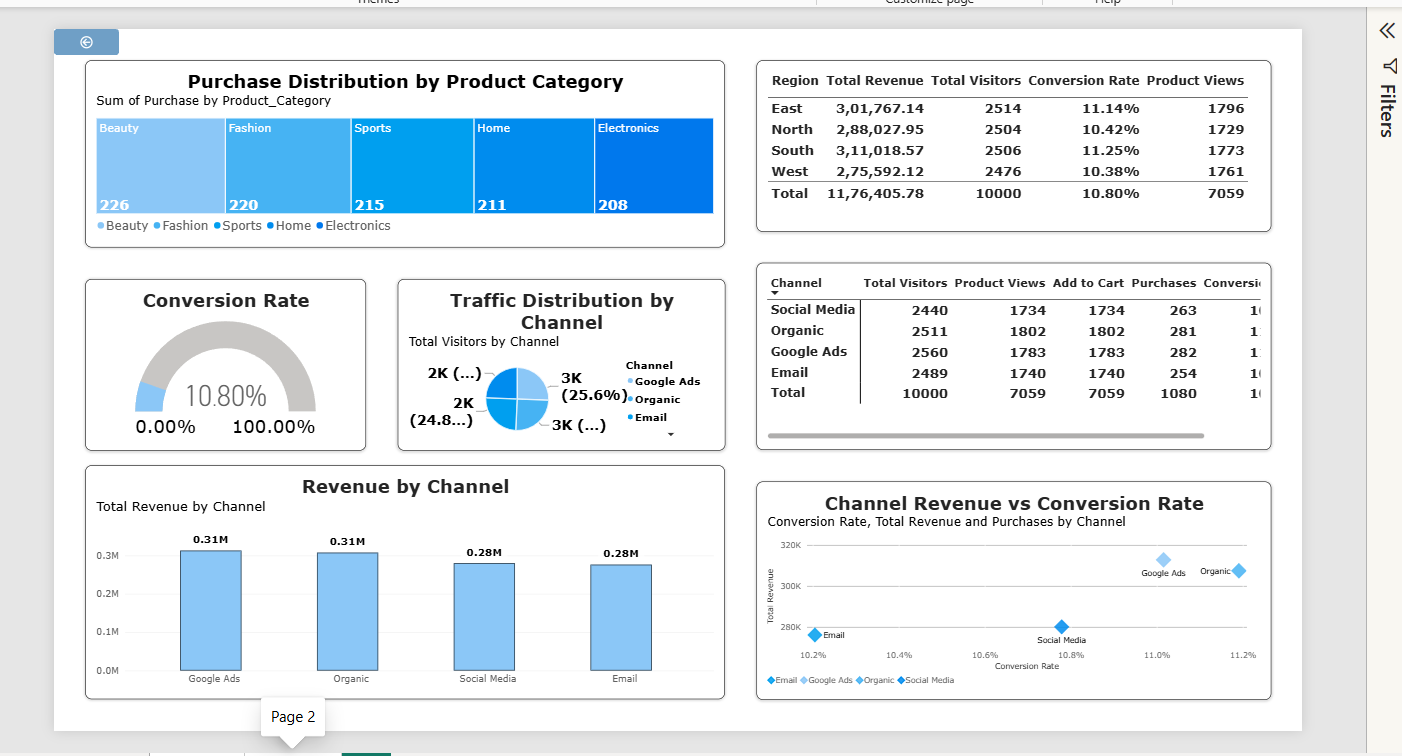

This screenshot's page, from the dashboard's own definition file:
{"tool":"powerbi","page":{"name":"Page 2","canvas":[1920,1080],"ordinal":1},"visuals":[{"type":"pivotTable","fields":{"Rows":["ecommerce_funnel_dashboard_ready.Channel"],"Values":["ecommerce_funnel_dashboard_ready.Total Visitors","ecommerce_funnel_dashboard_ready.Product Views","ecommerce_funnel_dashboard_ready.Add to Cart","ecommerce_funnel_dashboard_ready.Purchases","ecommerce_funnel_dashboard_ready.Overall Conversion Rate"]},"box":[1080,360,792,288],"z":0},{"type":"tableEx","fields":{"Values":["ecommerce_funnel_dashboard_ready.Region","ecommerce_funnel_dashboard_ready.Total Revenue","ecommerce_funnel_dashboard_ready.Total Visitors","ecommerce_funnel_dashboard_ready.Overall Conversion Rate","ecommerce_funnel_dashboard_ready.Product Views"]},"box":[1080,48,792,264],"z":1000},{"type":"actionButton","box":[0,0,100,40],"z":2000},{"type":"treemap","title":"Purchase Distribution by Product Category","fields":{"Values":["Sum(ecommerce_funnel_dashboard_ready.Purchase)"],"Group":["ecommerce_funnel_dashboard_ready.Product_Category"]},"box":[48,48,984,288],"z":3000},{"type":"lineStackedColumnComboChart","title":"Revenue by Channel","fields":{"Category":["ecommerce_funnel_dashboard_ready.Channel"],"Y":["ecommerce_funnel_dashboard_ready.Total Revenue"]},"box":[48,672,984,360],"z":4000},{"type":"gauge","fields":{"Y":["ecommerce_funnel_dashboard_ready.Overall Conversion Rate"]},"box":[48,384,432,264],"z":4001},{"type":"scatterChart","title":"Channel Revenue vs Conversion Rate","fields":{"X":["ecommerce_funnel_dashboard_ready.Overall Conversion Rate"],"Y":["ecommerce_funnel_dashboard_ready.Total Revenue"],"Size":["ecommerce_funnel_dashboard_ready.Purchases"],"Series":["ecommerce_funnel_dashboard_ready.Channel"]},"box":[1080,696,792,336],"z":4002},{"type":"pieChart","title":"Traffic Distribution by Channel","fields":{"Category":["ecommerce_funnel_dashboard_ready.Channel"],"Y":["ecommerce_funnel_dashboard_ready.Total Visitors"]},"box":[528,384,504,264],"z":4003}]}

Visuals, with their boxes on the page's 1920x1080 design canvas (x1, y1, x2, y2). These are canvas units, not pixel positions in the 1402x756 screenshot, which may show the page scaled, cropped or inside an application window:
pivotTable - ecommerce_funnel_dashboard_ready.Channel x ecommerce_funnel_dashboard_ready.Total Visitors: <region>1080, 360, 1872, 648</region>
tableEx - ecommerce_funnel_dashboard_ready.Region x ecommerce_funnel_dashboard_ready.Total Revenue: <region>1080, 48, 1872, 312</region>
actionButton: <region>0, 0, 100, 40</region>
"Purchase Distribution by Product Category" treemap: <region>48, 48, 1032, 336</region>
"Revenue by Channel" lineStackedColumnComboChart: <region>48, 672, 1032, 1032</region>
gauge - ecommerce_funnel_dashboard_ready.Overall Conversion Rate: <region>48, 384, 480, 648</region>
"Channel Revenue vs Conversion Rate" scatterChart: <region>1080, 696, 1872, 1032</region>
"Traffic Distribution by Channel" pieChart: <region>528, 384, 1032, 648</region>
